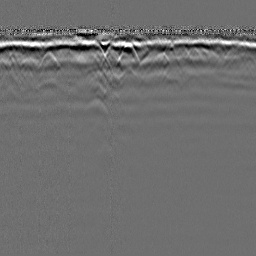cavity: (117, 40, 140, 63)
